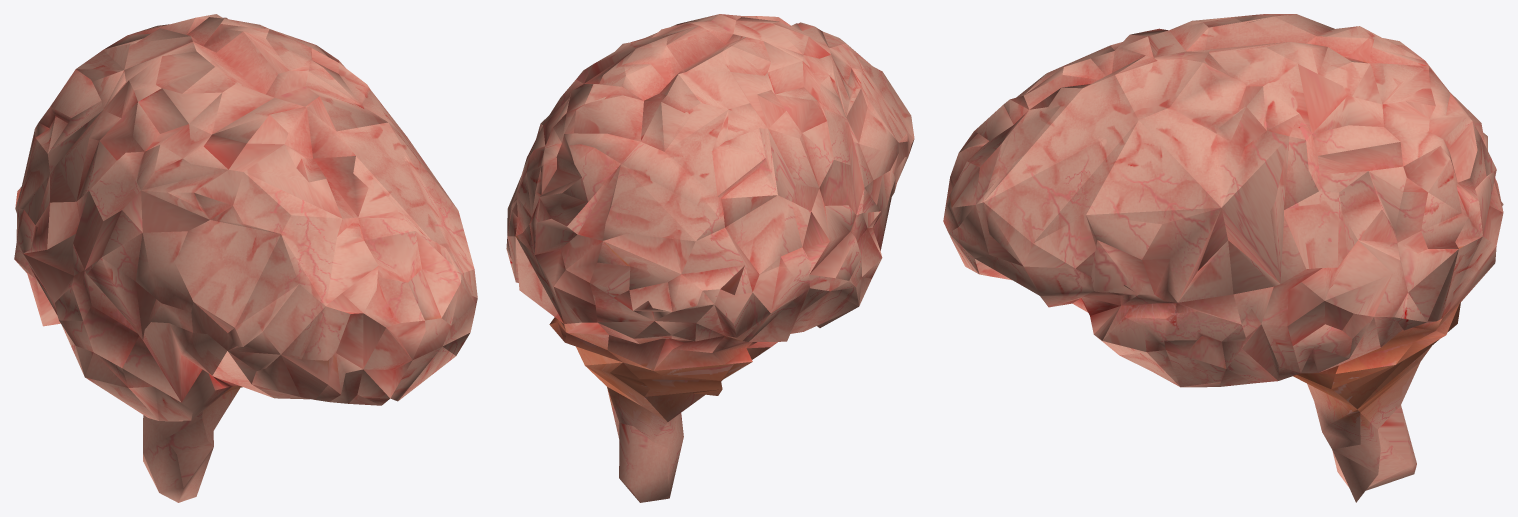
File: brain.fbx
3 renders of one model, left to right at view 1: azimuth 30°, elevation 25°; view 2: azimuth 150°, elevation 25°; view 3: azimuth 270°, elevation 25°, orthographic. The views are drawn at different scales.
Visible parts, largest first — view 1: brain1; view 2: brain1; view 3: brain1.
Part boxes in pixels (box(x1,y1,x2,y2)): brain1: box(14, 14, 477, 502); brain1: box(506, 14, 914, 502); brain1: box(943, 14, 1503, 502).
Size of the model in its own units: 235 by 315 by 343.
1 material, 1 textured.
